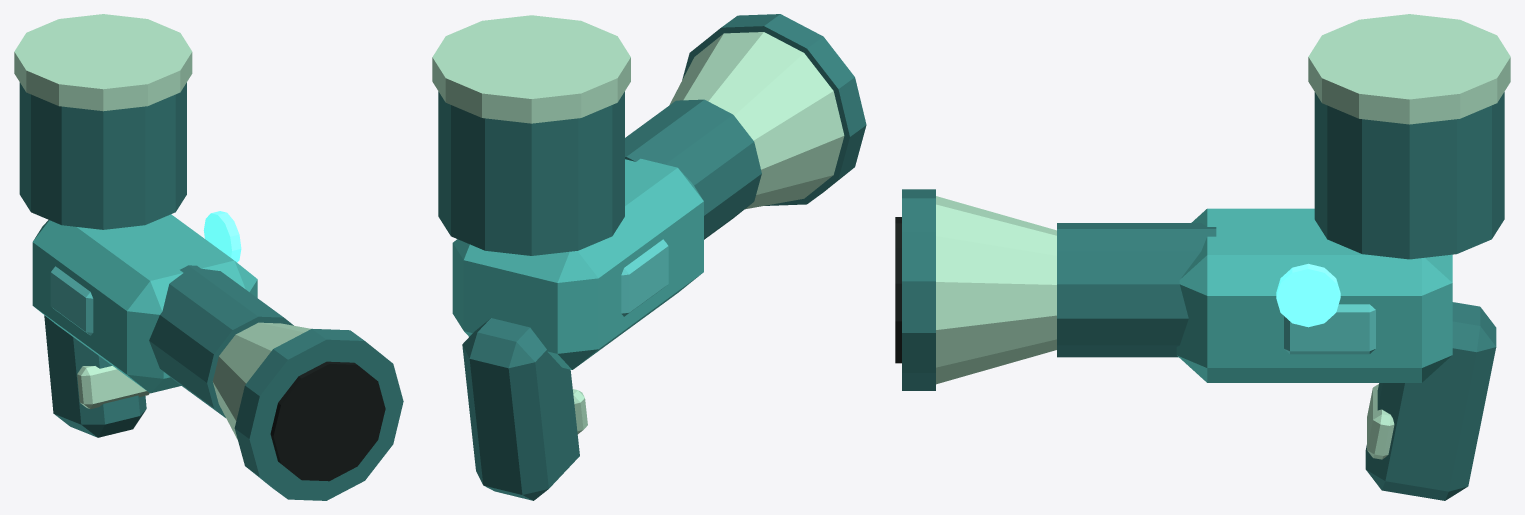
Rendered from SproutBlaster.glb.
3 views of the same model, side by side, from view 1: azimuth 30°, elevation 25°; view 2: azimuth 150°, elevation 25°; view 3: azimuth 270°, elevation 25° (orthographic). The views are drawn at different scales.
Visible parts, largest first — view 1: SeedSprayer_HopperFrame, SeedSprayer_MainBody, SeedSprayer_HopperCap, SeedSprayer_MuzzleRim, SeedSprayer_MuzzleOpening, SeedSprayer_Barrel, SeedSprayer_Grip, SeedSprayer_Nozzle, SeedSprayer_GripAccent, SeedSprayer_SidePanel, SeedSprayer_Gauge; view 2: SeedSprayer_HopperFrame, SeedSprayer_MainBody, SeedSprayer_HopperCap, SeedSprayer_Nozzle, SeedSprayer_Grip, SeedSprayer_Barrel, SeedSprayer_MuzzleRim, SeedSprayer_SidePanel; view 3: SeedSprayer_MainBody, SeedSprayer_HopperFrame, SeedSprayer_Nozzle, SeedSprayer_HopperCap, SeedSprayer_Barrel, SeedSprayer_Grip, SeedSprayer_MuzzleRim, SeedSprayer_SidePanel, SeedSprayer_Gauge, SeedSprayer_GripAccent, SeedSprayer_MuzzleOpening.
Part boxes in pixels (x1,y1,x2,y2): SeedSprayer_HopperFrame: (19, 82, 186, 229); SeedSprayer_MainBody: (32, 214, 257, 393); SeedSprayer_HopperCap: (14, 14, 192, 111); SeedSprayer_MuzzleRim: (234, 328, 403, 500); SeedSprayer_MuzzleOpening: (270, 361, 385, 481); SeedSprayer_Barrel: (149, 265, 293, 417); SeedSprayer_Grip: (44, 315, 146, 437); SeedSprayer_Nozzle: (212, 322, 310, 439); SeedSprayer_GripAccent: (77, 366, 149, 409); SeedSprayer_SidePanel: (50, 266, 93, 335); SeedSprayer_Gauge: (203, 211, 241, 262); SeedSprayer_HopperFrame: (438, 91, 624, 255); SeedSprayer_MainBody: (452, 158, 703, 369); SeedSprayer_HopperCap: (432, 15, 630, 123); SeedSprayer_Nozzle: (669, 32, 844, 209); SeedSprayer_Grip: (462, 318, 579, 500); SeedSprayer_Barrel: (625, 99, 761, 239); SeedSprayer_MuzzleRim: (682, 14, 866, 205); SeedSprayer_SidePanel: (621, 239, 668, 316); SeedSprayer_MainBody: (1176, 208, 1452, 382); SeedSprayer_HopperFrame: (1314, 92, 1504, 259); SeedSprayer_Nozzle: (936, 196, 1056, 384); SeedSprayer_HopperCap: (1308, 14, 1510, 124); SeedSprayer_Barrel: (1057, 223, 1216, 357); SeedSprayer_Grip: (1365, 302, 1496, 500); SeedSprayer_MuzzleRim: (902, 189, 935, 390); SeedSprayer_SidePanel: (1284, 304, 1375, 354); SeedSprayer_Gauge: (1276, 263, 1340, 327); SeedSprayer_GripAccent: (1367, 384, 1394, 459); SeedSprayer_MuzzleOpening: (895, 217, 901, 363).
Size of the model in its own units: 0.67 by 1.56 by 2.01.
